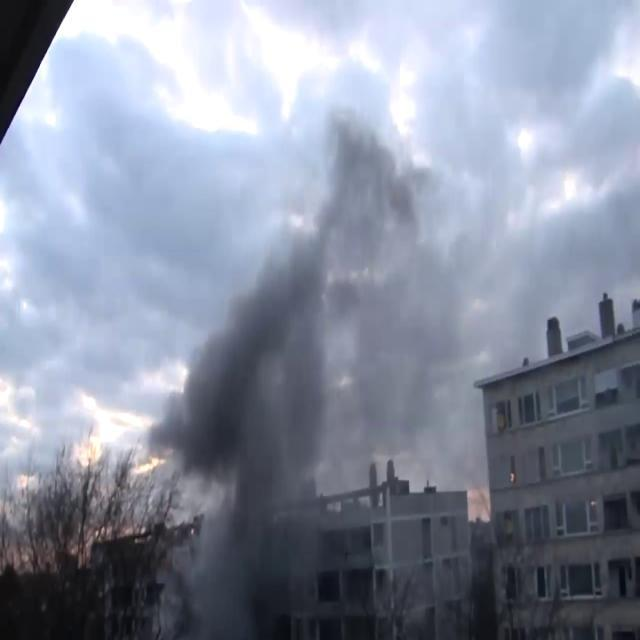Smoke: (146, 94, 464, 628)
